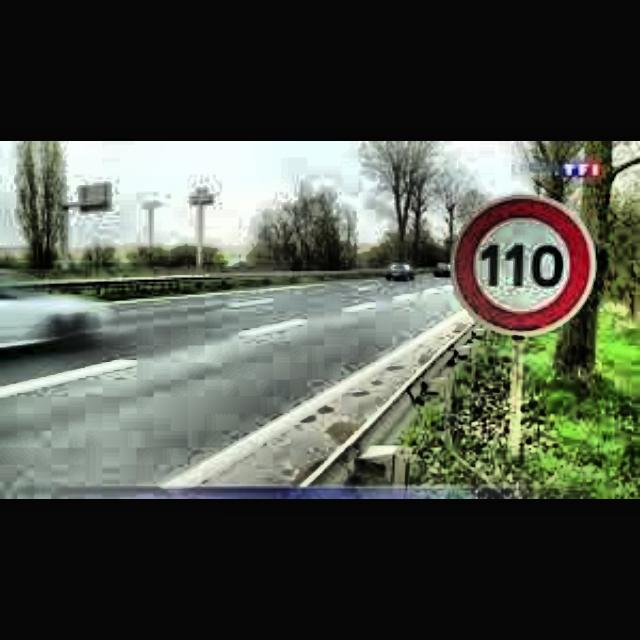speed_110: (456, 197, 592, 331)
